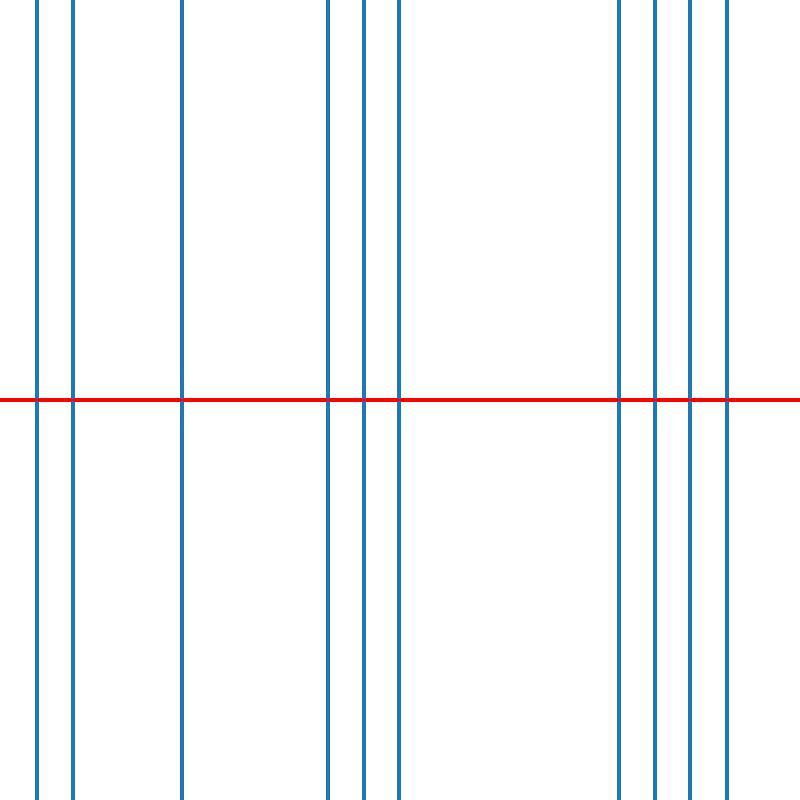root: (650, 396, 658, 404), (32, 396, 40, 404), (723, 396, 730, 404), (360, 396, 367, 404), (614, 396, 621, 404), (687, 396, 694, 404), (69, 396, 76, 404), (396, 396, 403, 404), (323, 396, 330, 404), (178, 396, 185, 404)
